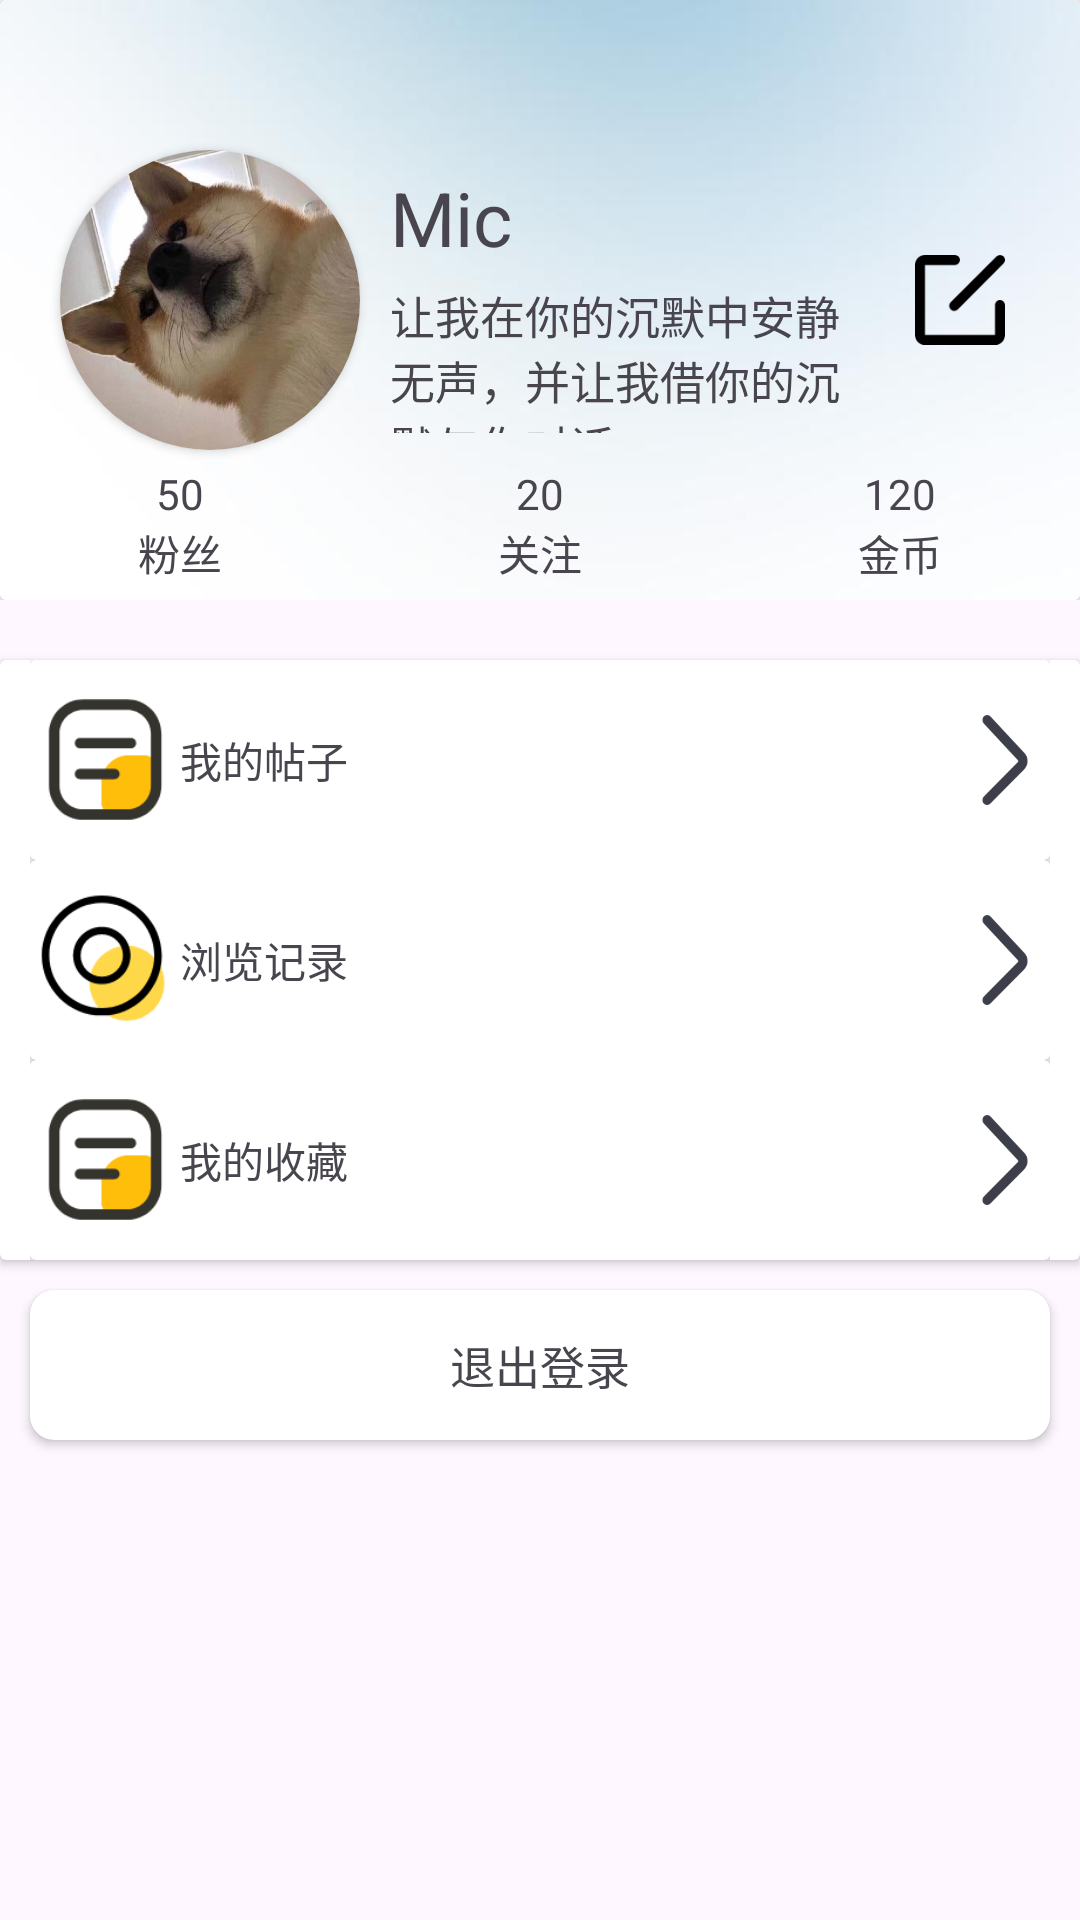

Screen size 1080px x 1920px. Icon name, then its box in pixels as bbox=[x1, y1, x2, y2]:
bianji: bbox=[915, 255, 1005, 345]
enter: bbox=[982, 715, 1028, 805], bbox=[982, 915, 1028, 1005], bbox=[982, 1115, 1028, 1205]
liulan: bbox=[41, 895, 165, 1021]
tiezi: bbox=[48, 699, 162, 820], bbox=[48, 1099, 162, 1220]
user: bbox=[60, 150, 360, 450]
